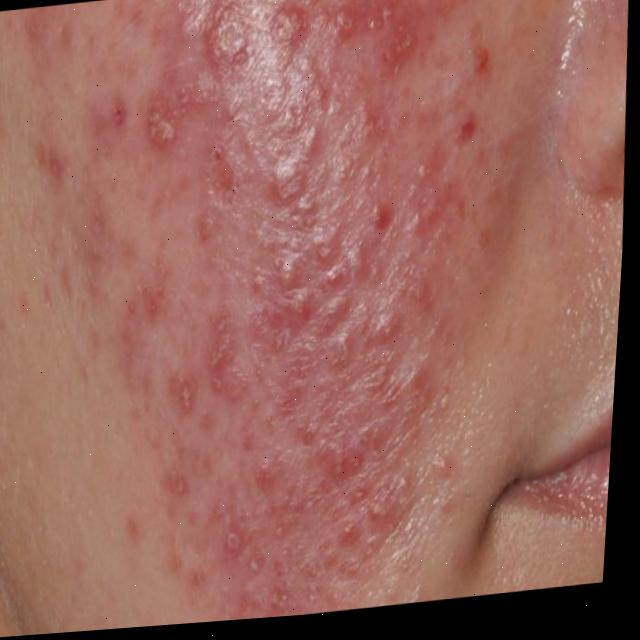Rosacea: (45, 0, 458, 547)
